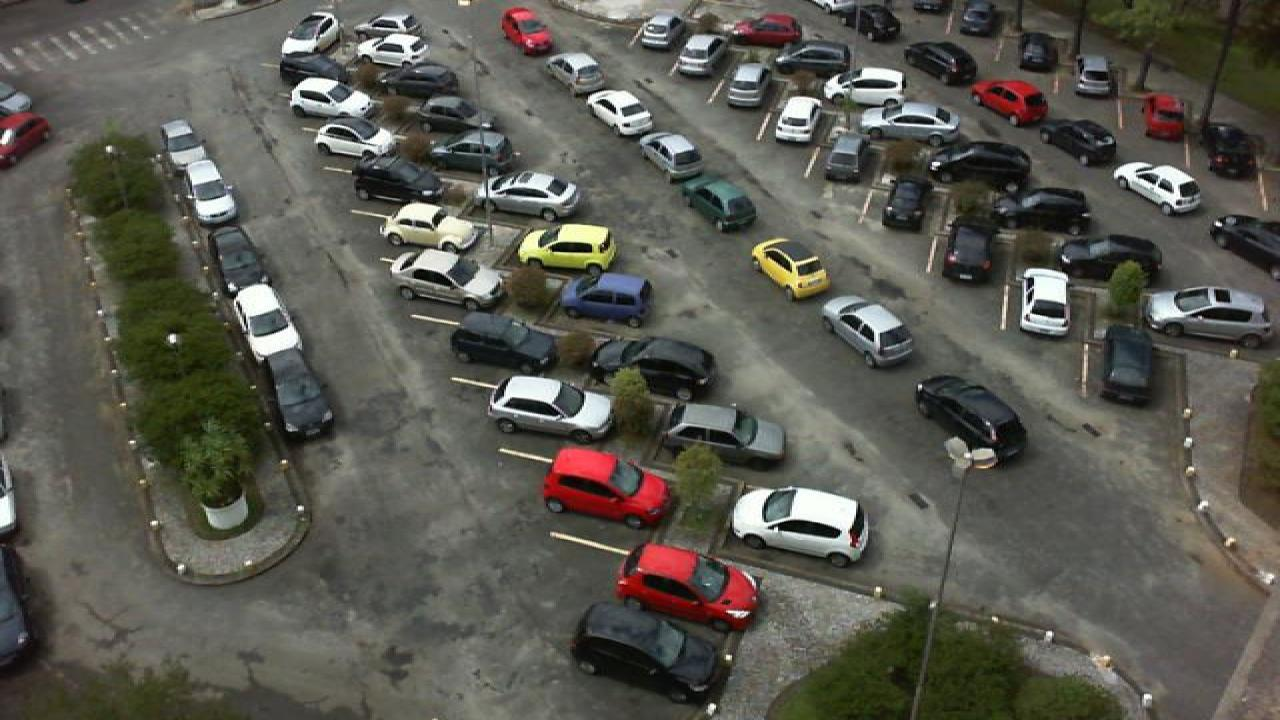Car: (568, 601, 728, 703), (616, 541, 762, 629), (726, 485, 874, 568), (540, 446, 674, 528), (488, 374, 620, 442), (660, 403, 788, 468), (590, 334, 716, 397), (1144, 286, 1272, 345), (386, 246, 502, 310), (260, 345, 334, 439), (446, 312, 558, 373), (228, 281, 302, 359), (516, 222, 618, 276), (1050, 233, 1162, 282), (380, 202, 478, 255), (562, 270, 654, 326), (1110, 161, 1204, 214), (1098, 324, 1158, 407), (484, 169, 582, 219), (352, 154, 444, 204), (994, 187, 1094, 232), (206, 224, 272, 289), (1206, 213, 1280, 270), (928, 141, 1032, 181), (860, 100, 958, 141), (286, 78, 372, 124), (966, 80, 1050, 127), (1018, 268, 1074, 338), (1036, 118, 1120, 164), (312, 120, 398, 164), (184, 159, 240, 226), (940, 220, 998, 284), (432, 127, 512, 171), (1200, 119, 1258, 179), (826, 66, 908, 108), (900, 42, 978, 86), (376, 63, 458, 99), (278, 11, 342, 55), (350, 34, 428, 68), (878, 180, 930, 231), (774, 40, 852, 74), (772, 94, 822, 146), (822, 132, 870, 184), (414, 94, 482, 130), (674, 32, 726, 78), (278, 50, 352, 82), (1142, 92, 1188, 143), (732, 13, 802, 45), (844, 3, 900, 43), (158, 120, 208, 164), (636, 11, 684, 53), (1072, 54, 1116, 97), (726, 63, 766, 110), (954, 0, 1002, 37), (1016, 30, 1058, 72), (354, 12, 422, 35)
